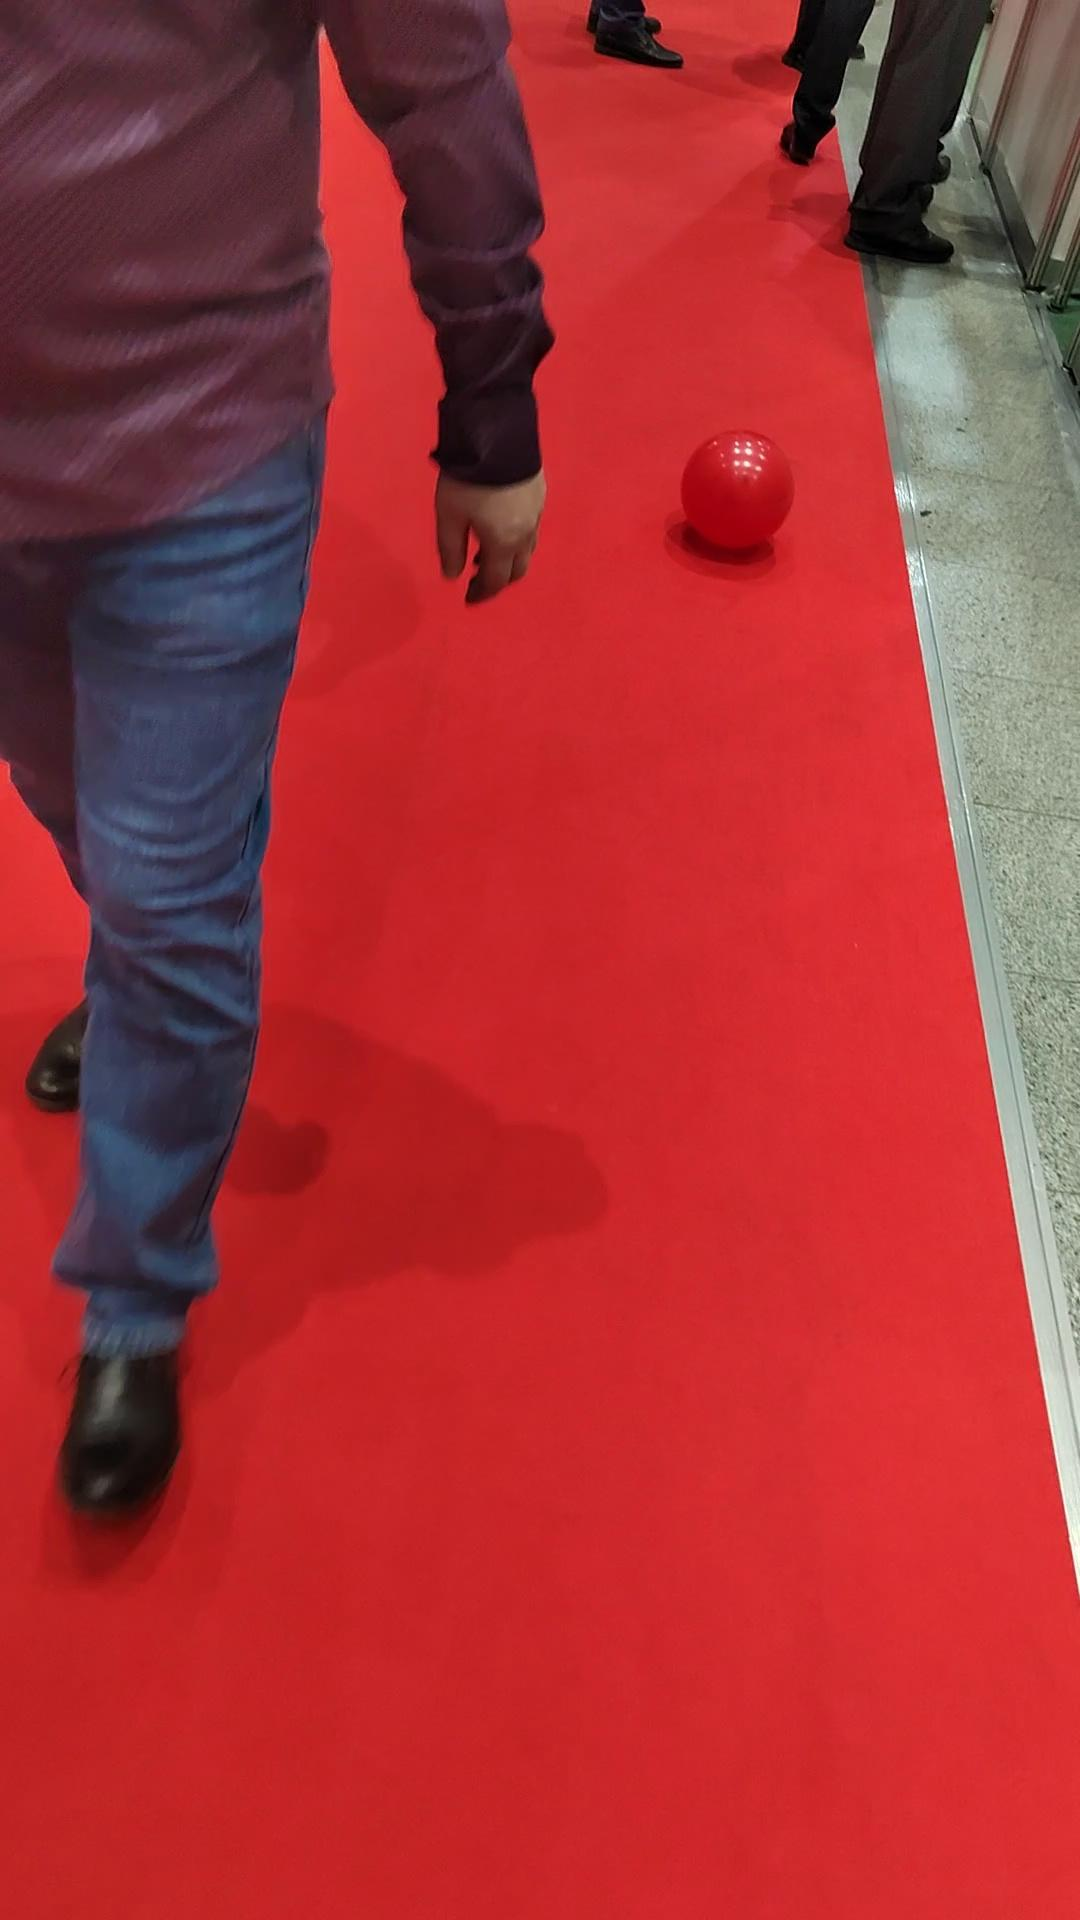red: (679, 431, 795, 552)
